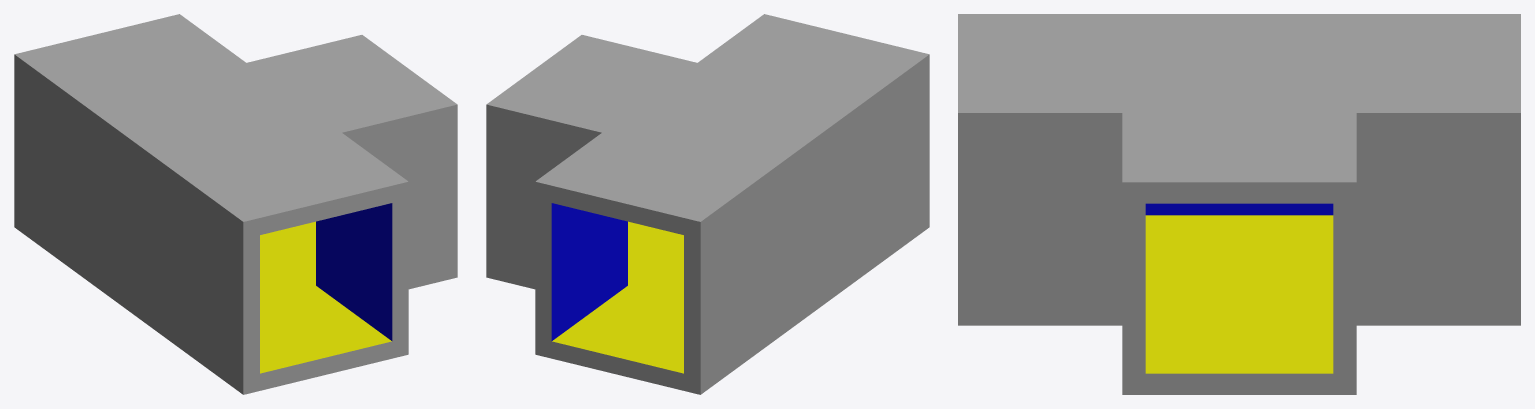
The model's file is t split hollow.fbx.
The picture shows the model from 3 angles, left to right: view 1: azimuth 30°, elevation 25°; view 2: azimuth 150°, elevation 25°; view 3: azimuth 270°, elevation 25°; orthographic projection. The views are drawn at different scales.
Parts seen in each view (by area): view 1: T_Split_hollow; view 2: T_Split_hollow; view 3: T_Split_hollow.
Part boxes in pixels (x1,y1,x2,y2): T_Split_hollow: [14, 14, 457, 394]; T_Split_hollow: [486, 14, 929, 394]; T_Split_hollow: [958, 14, 1520, 394].
Size of the model in its own units: 8.5 by 5 by 12.
